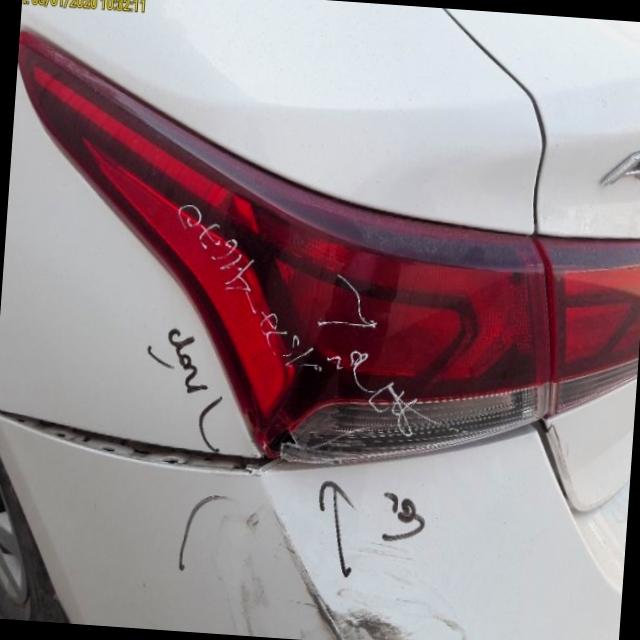Dechirure: (3, 395, 262, 479)
Phare abime: (258, 376, 421, 467)
Rayure: (205, 531, 536, 640)
